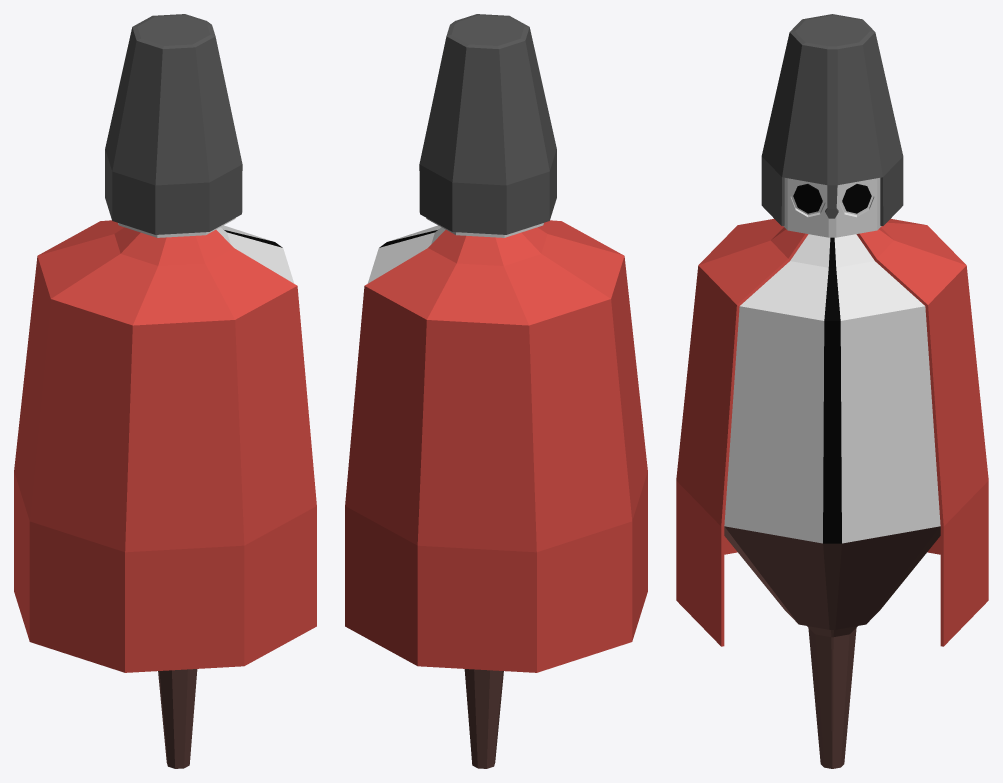
The model's file is EnemyThree.fbx.
The picture shows the model from 3 angles, left to right: view 1: azimuth 30°, elevation 25°; view 2: azimuth 150°, elevation 25°; view 3: azimuth 270°, elevation 25°; orthographic projection.
Parts seen in each view (by area): view 1: Cylinder.009; view 2: Cylinder.009; view 3: Cylinder.009.
Part boxes in pixels (box(x1,y1,x2,y2)): Cylinder.009: box(14, 14, 316, 768); Cylinder.009: box(345, 14, 647, 768); Cylinder.009: box(676, 14, 988, 768).
Bounding box in the file's own units: 452 × 1195 × 463.
